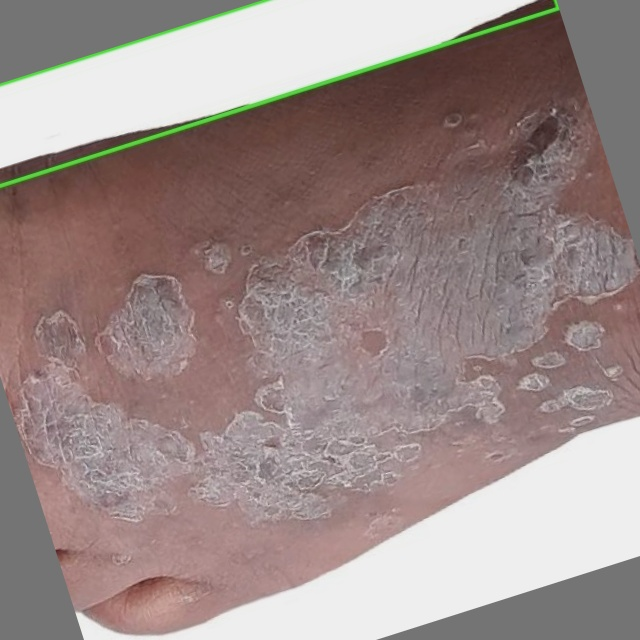Contact Dermatitis: (0, 0, 558, 185)
